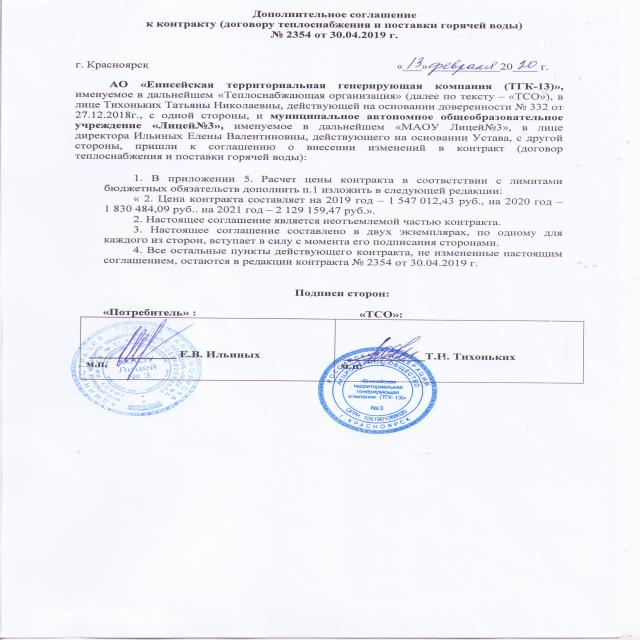stamps: (25, 299, 242, 443), (271, 319, 466, 446)
